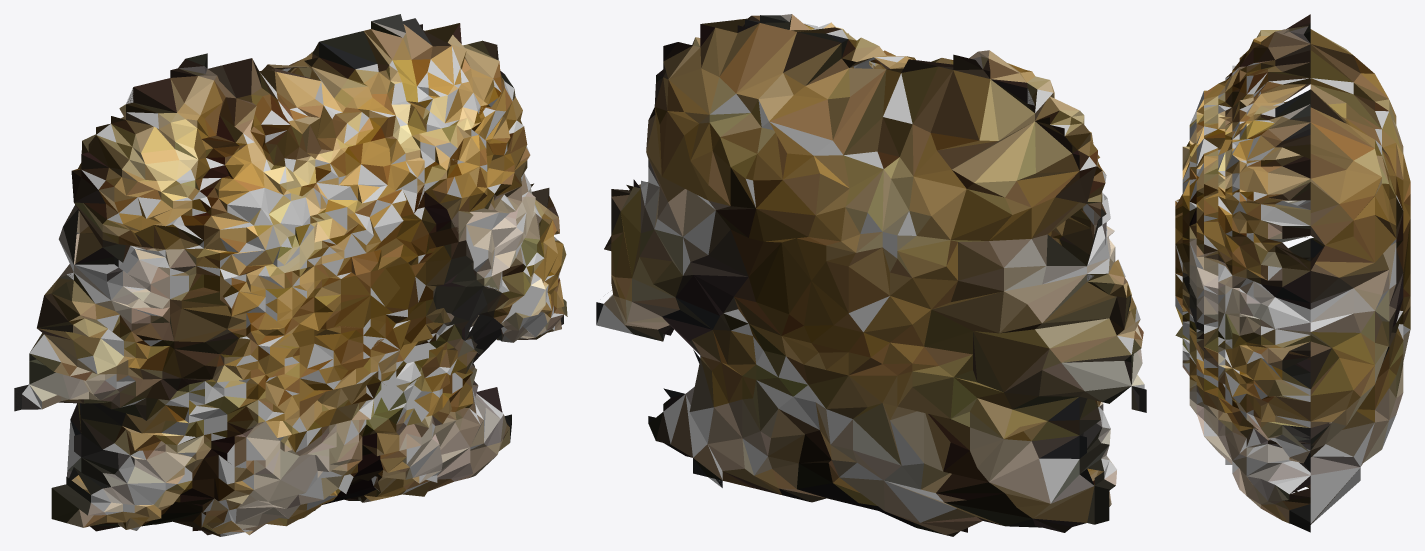
Rendered from B08_3_solar_scale_platebody.obj.
3 renders of one model, left to right at view 1: azimuth 30°, elevation 25°; view 2: azimuth 150°, elevation 25°; view 3: azimuth 270°, elevation 25°, orthographic. The views are drawn at different scales.
Parts seen in each view (by area): view 1: B08_3_solar_scale_platebody; view 2: B08_3_solar_scale_platebody; view 3: B08_3_solar_scale_platebody.
Boxes of the visible parts, x1,y1,x2,y2 form: B08_3_solar_scale_platebody: (14, 14, 567, 536); B08_3_solar_scale_platebody: (596, 14, 1146, 536); B08_3_solar_scale_platebody: (1175, 14, 1410, 532).
Bounding box in the file's own units: 74 × 63 × 33.
